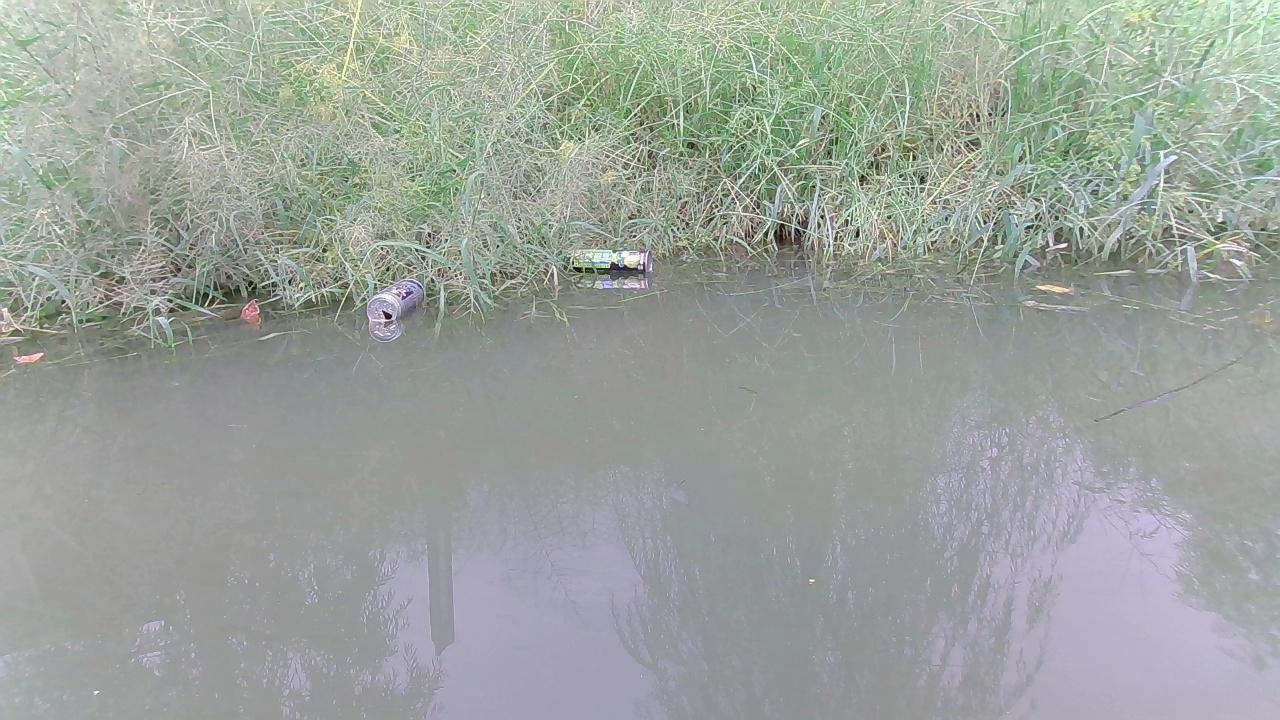Metal: (556, 245, 655, 283), (364, 274, 427, 326)
